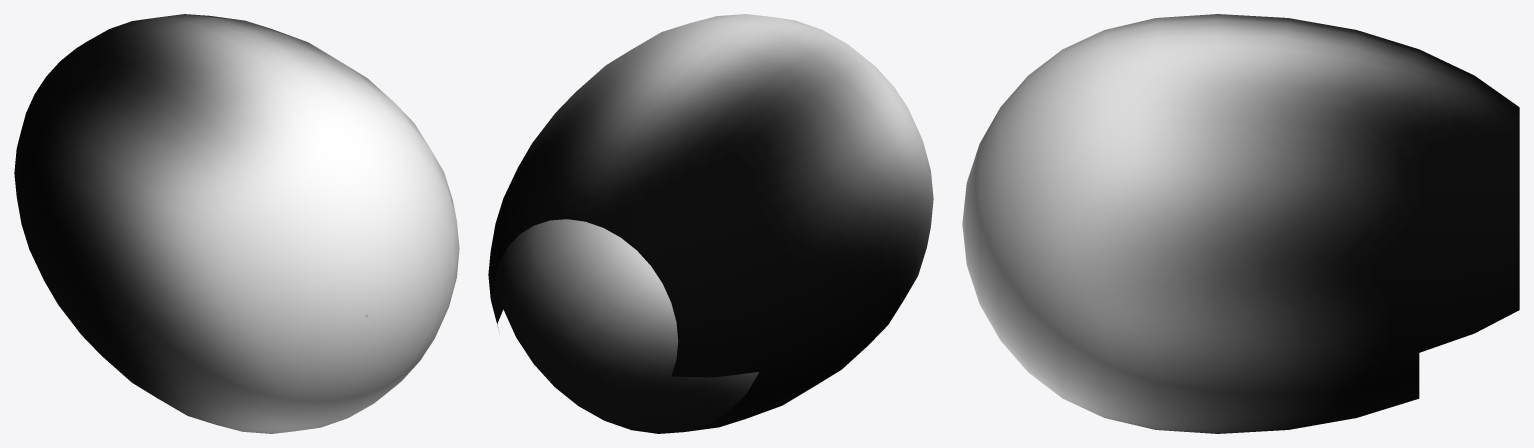
File: charge wave.fbx
The picture shows the model from 3 angles, left to right: view 1: azimuth 30°, elevation 25°; view 2: azimuth 150°, elevation 25°; view 3: azimuth 270°, elevation 25°; orthographic projection. The views are drawn at different scales.
Visible parts, largest first — view 1: ChargeSphere; view 2: ChargeSphere; view 3: ChargeSphere.
Part boxes in pixels (left/top/right/bottom): ChargeSphere: left=14, top=14, right=459, bottom=433; ChargeSphere: left=488, top=14, right=933, bottom=433; ChargeSphere: left=962, top=14, right=1519, bottom=433.
Bounding box in the file's own units: 403 × 403 × 534.
